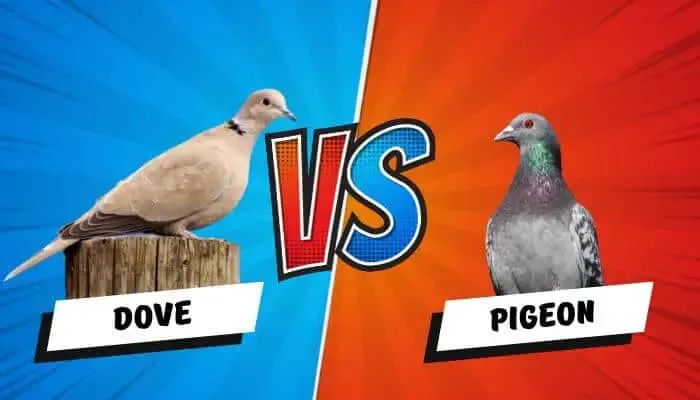Flying Rat: (454, 107, 611, 279)
